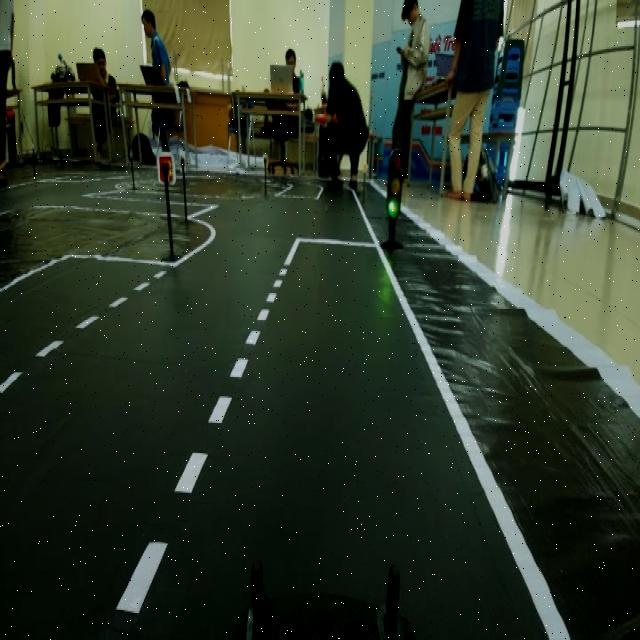trafficlight: (372, 140, 410, 256)
